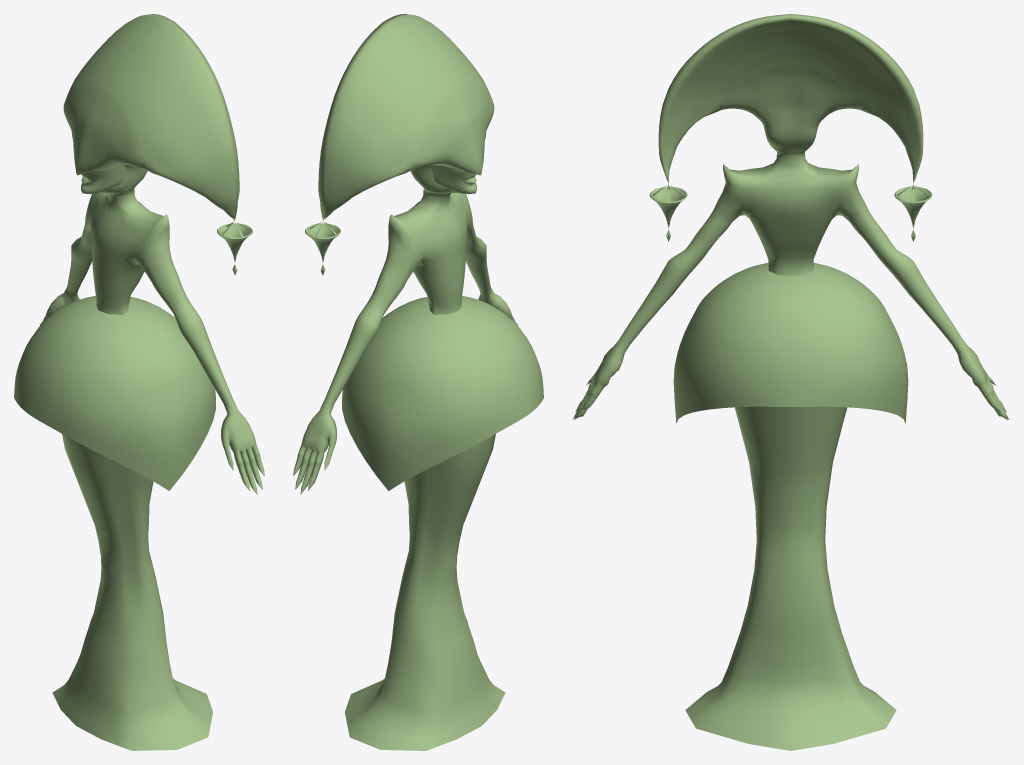
Rendered from justice8.fbx.
3 renders of one model, left to right at view 1: azimuth 30°, elevation 25°; view 2: azimuth 150°, elevation 25°; view 3: azimuth 270°, elevation 25°, orthographic. The views are drawn at different scales.
Visible parts, largest first — view 1: Cylinder001; view 2: Cylinder001; view 3: Cylinder001.
Boxes of the visible parts, bbox=[...] form: Cylinder001: bbox=[14, 14, 264, 750]; Cylinder001: bbox=[293, 14, 543, 750]; Cylinder001: bbox=[572, 14, 1009, 750].
Bounding box in the file's own units: 399 × 1453 × 803.
